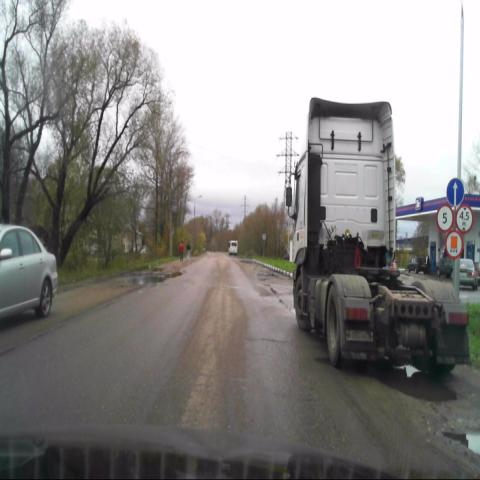3_32: (445, 231, 465, 258)
